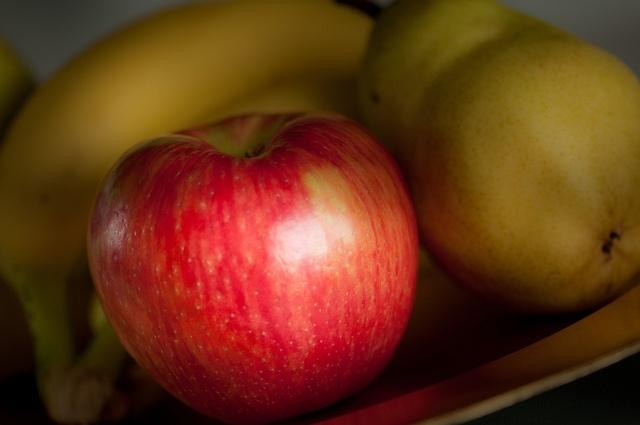apples: (83, 107, 445, 424)
